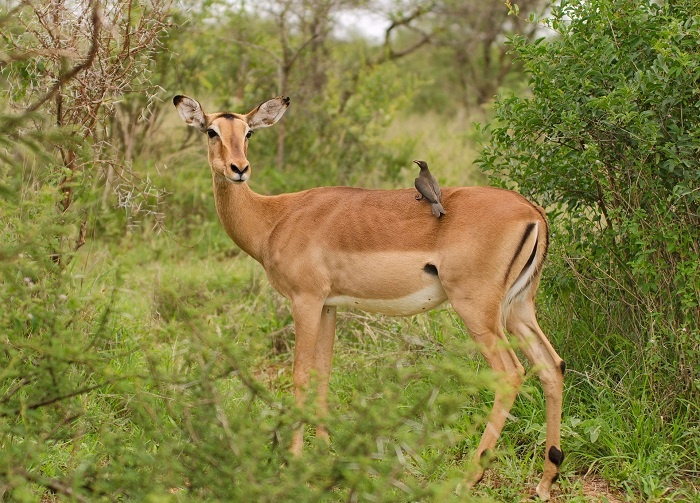bird: (407, 152, 449, 217)
impala: (168, 90, 570, 501)
